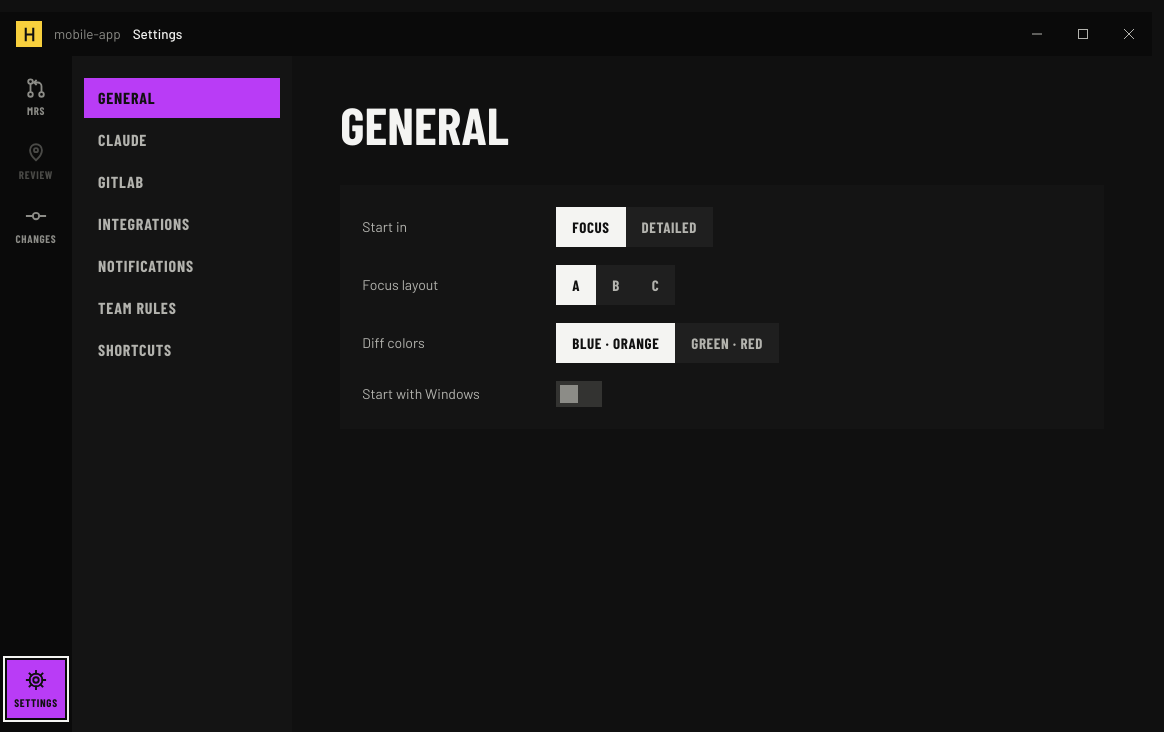
Test: Settings › General › F-19.1 a change that cannot be saved shows the error and keeps the saved value
Expected: the element named "Start in" is shown, [556, 207, 713, 247]
Click the radio button labelled "Detailed" at {"x": 669, "y": 227}, box [626, 207, 713, 247]
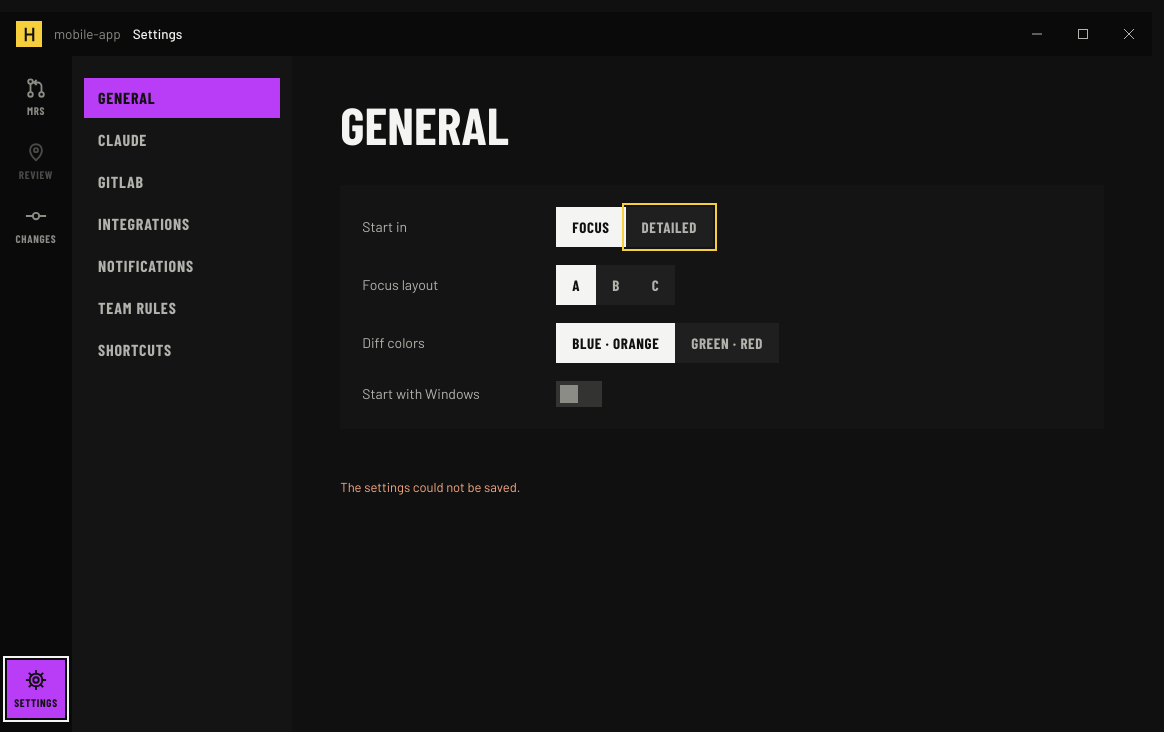
Expected: the message reads "The settings could not be saved.", [340, 479, 520, 495]
